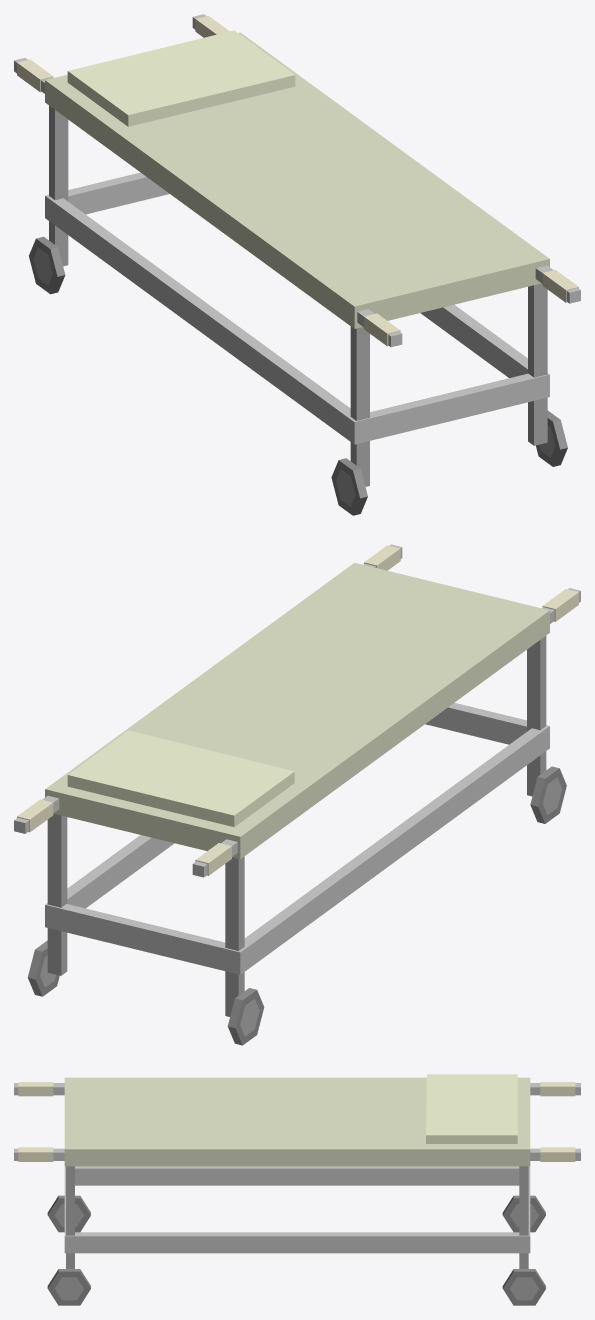
Rendered from medical trolley_2.fbx.
The picture shows the model from 3 angles, top to bottom: view 1: azimuth 30°, elevation 25°; view 2: azimuth 150°, elevation 25°; view 3: azimuth 270°, elevation 25°; orthographic projection. The views are drawn at different scales.
Parts seen in each view (by area): view 1: Cube_11; view 2: Cube_11; view 3: Cube_11.
Boxes of the visible parts, <box> form: Cube_11: <box>14,14,580,515</box>; Cube_11: <box>14,544,580,1045</box>; Cube_11: <box>14,1074,580,1305</box>.
Size of the model in its own units: 34.31 by 34.15 by 108.
